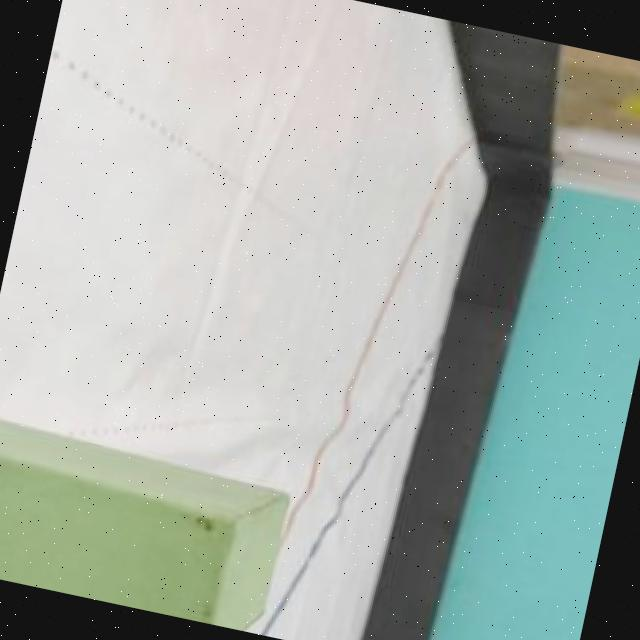greenbox: (0, 411, 299, 636)
